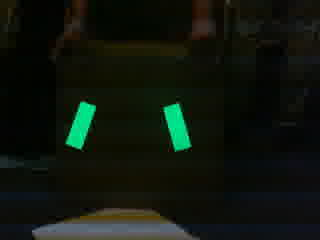target: (64, 99, 194, 154)
